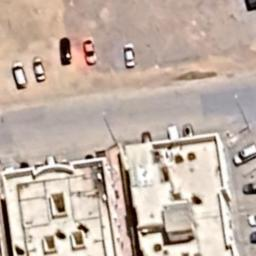SUV: (232, 144, 256, 167)
sedan: (82, 36, 97, 67), (32, 57, 46, 84), (123, 42, 136, 68), (59, 38, 72, 62), (242, 182, 256, 194)
unknown: (247, 214, 256, 227), (249, 230, 256, 244)
van: (12, 61, 28, 90)
